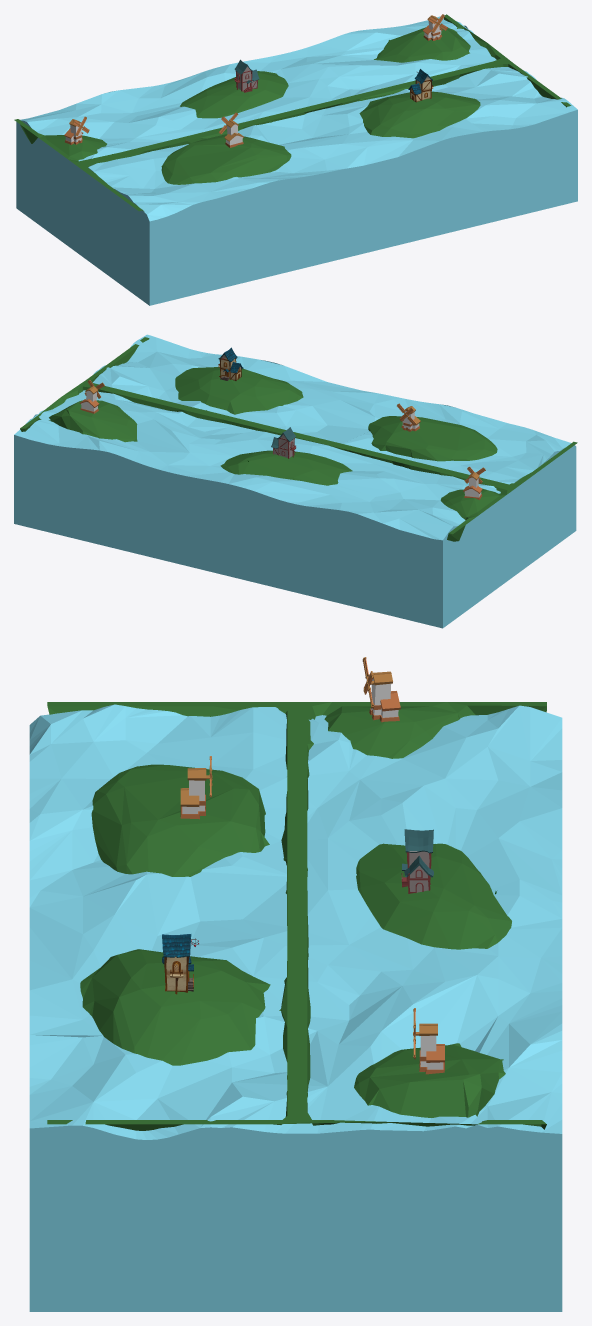
File: Netherlands_4.fbx
The picture shows the model from 3 angles, top to bottom: view 1: azimuth 30°, elevation 25°; view 2: azimuth 150°, elevation 25°; view 3: azimuth 270°, elevation 25°; orthographic projection. The views are drawn at different scales.
Parts seen in each view (by area): view 1: pPlane1, island1, Fantasy_House_6, Fantasy_House_7, mill7, mill6, mill5; view 2: pPlane1, island1, Fantasy_House_7, Fantasy_House_6, mill5, mill6, mill7; view 3: pPlane1, island1, Fantasy_House_6, Fantasy_House_7, mill6, mill5, mill7.
Part boxes in pixels (<box>): pPlane1: <box>16,15,577,305</box>; island1: <box>14,14,571,211</box>; Fantasy_House_6: <box>234,59,259,92</box>; Fantasy_House_7: <box>408,69,433,102</box>; mill7: <box>219,112,243,147</box>; mill6: <box>64,116,89,144</box>; mill5: <box>423,14,447,40</box>; pPlane1: <box>14,334,576,628</box>; island1: <box>20,337,577,541</box>; Fantasy_House_7: <box>218,347,243,380</box>; Fantasy_House_6: <box>271,427,296,458</box>; mill5: <box>79,380,104,413</box>; mill6: <box>463,466,485,499</box>; mill7: <box>397,403,420,431</box>; pPlane1: <box>29,704,562,1311</box>; island1: <box>47,702,546,1130</box>; Fantasy_House_6: <box>401,829,433,893</box>; Fantasy_House_7: <box>162,934,198,994</box>; mill6: <box>362,657,400,722</box>; mill5: <box>413,1008,444,1074</box>; mill7: <box>180,756,212,819</box>.
Bounding box in the file's own units: 60.27 × 17.47 × 31.98.
Materials: 12 (1 with a texture image).
